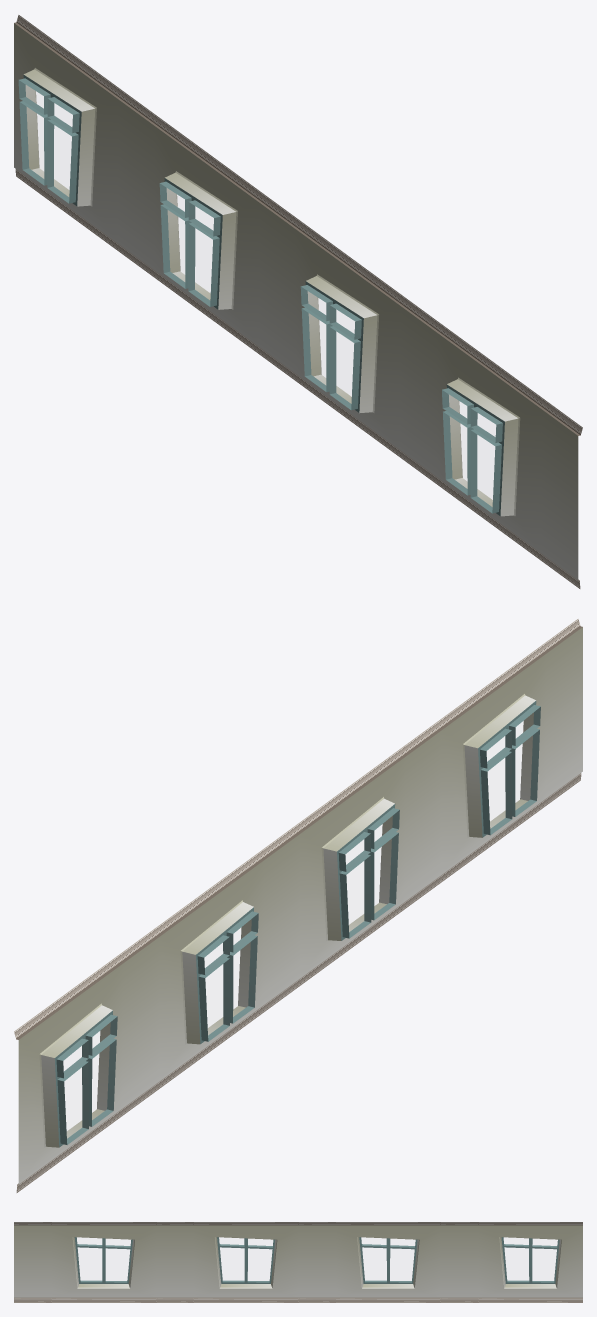
File: SM_Office_Wall_R.fbx
3 views of the same model, one above another, from view 1: azimuth 30°, elevation 25°; view 2: azimuth 150°, elevation 25°; view 3: azimuth 270°, elevation 25° (orthographic). The views are drawn at different scales.
Parts seen in each view (by area): view 1: Wall_R; view 2: Wall_R; view 3: Wall_R.
Part boxes in pixels (x1,y1,x2,y2): Wall_R: (14, 15, 582, 588); Wall_R: (14, 619, 582, 1192); Wall_R: (14, 1222, 582, 1302).
Bounding box in the file's own units: 47.18 × 295 × 1869.
4 materials, 3 textured.
